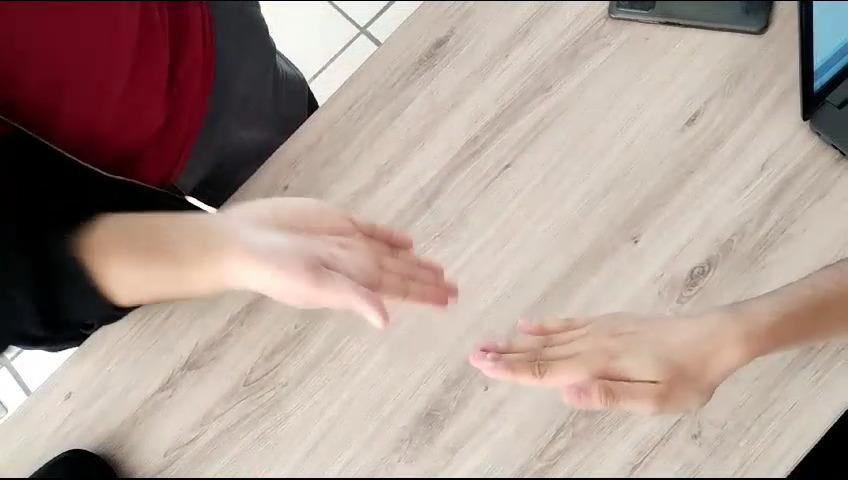Paper: (454, 289, 848, 451), (202, 139, 477, 363)
